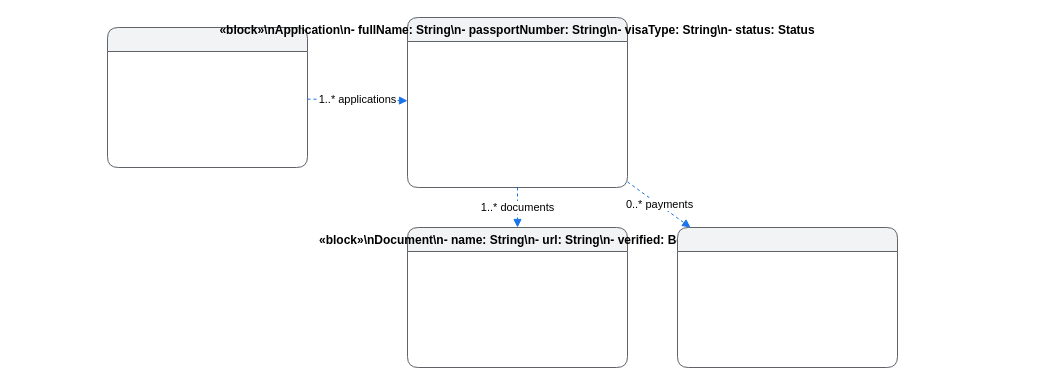
Some shapes in this 1044 by 385 pixel diagram are drawn without their labels. The centre of each missing label's shape, as x and y in pixels:
«block»\nPayment\n- amount: Number\n- currency: String\n- status: PaymentStatus: point (787, 297)
«block»\nUser\n- name: String\n- email: String\n- password: String: point (207, 97)
